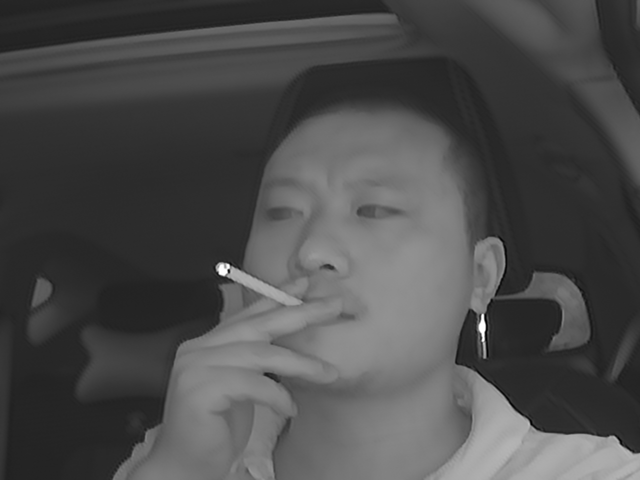hand: (175, 273, 338, 433)
